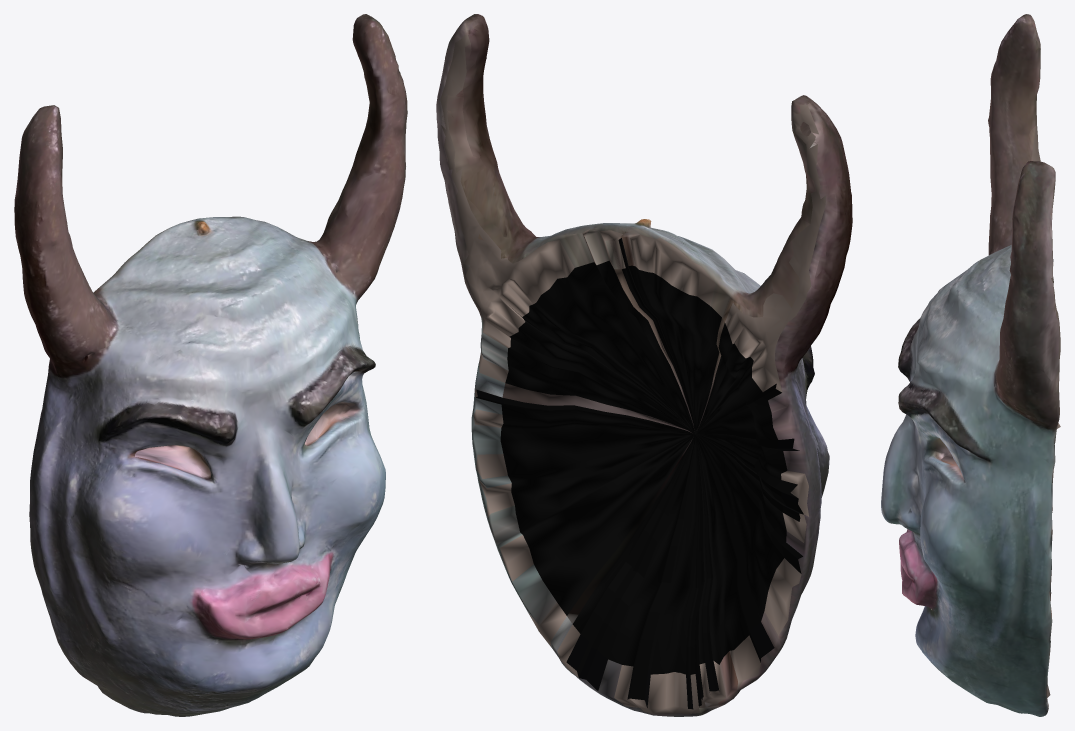
File: Mask_2.4_dima_low.glb
The picture shows the model from 3 angles, left to right: view 1: azimuth 30°, elevation 25°; view 2: azimuth 150°, elevation 25°; view 3: azimuth 270°, elevation 25°; orthographic projection. The views are drawn at different scales.
Visible parts, largest first — view 1: Mesh_0; view 2: Mesh_0; view 3: Mesh_0.
Part boxes in pixels (<box>): Mesh_0: <box>14,14,407,716</box>; Mesh_0: <box>436,14,852,716</box>; Mesh_0: <box>881,14,1060,716</box>.
Bounding box in the file's own units: 1.89 × 2.97 × 0.7773.
Materials: 3 (3 with a texture image).
